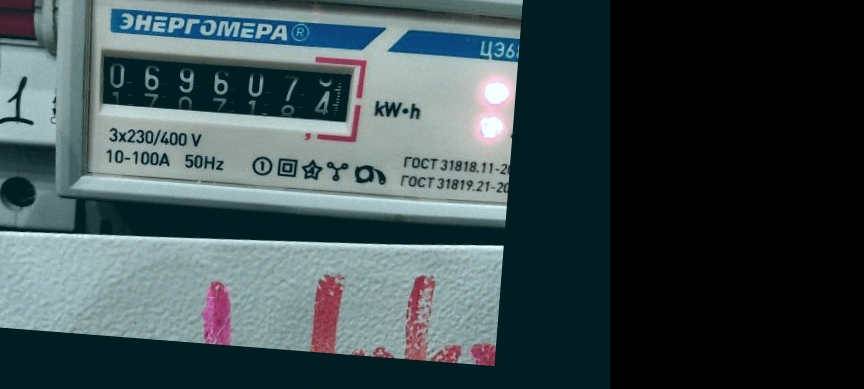0: (244, 67, 265, 98), (105, 59, 126, 88)
4: (312, 87, 330, 116)
6: (140, 61, 162, 90), (209, 66, 230, 96)
7: (280, 72, 299, 103)
9: (175, 64, 194, 94)
screen: (81, 30, 372, 141)
